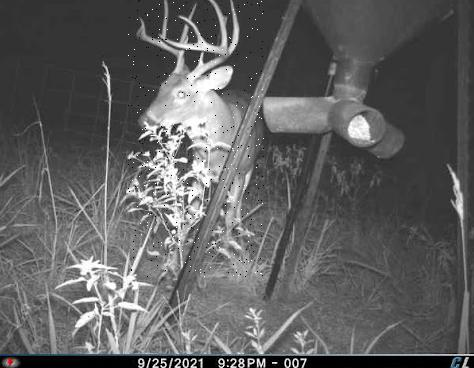Deer: (127, 0, 264, 277)
